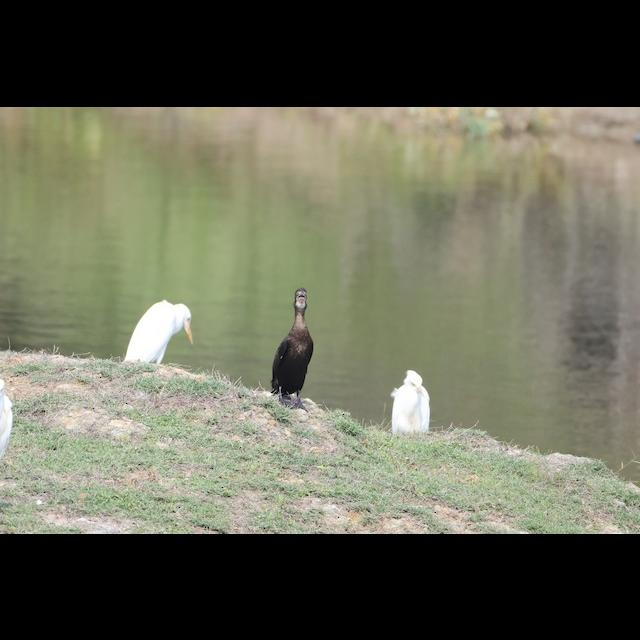cormorant: (264, 279, 316, 403)
egret: (122, 290, 194, 364), (380, 361, 438, 442)
